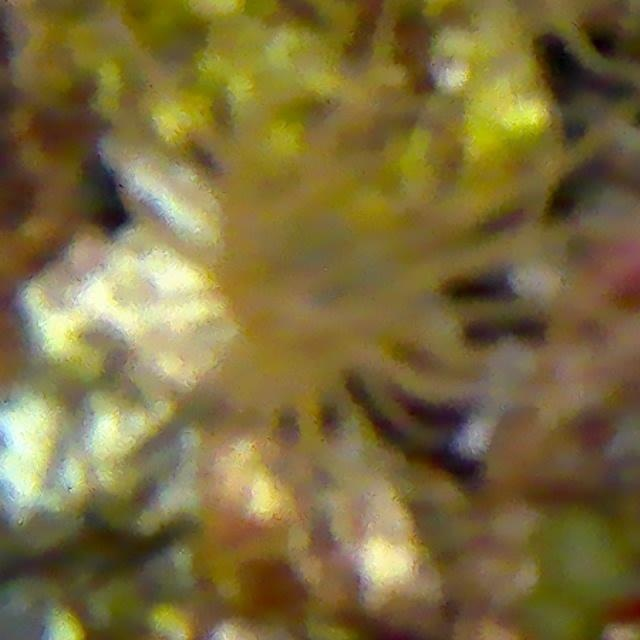SeaGrape: (544, 505, 640, 611), (524, 590, 594, 640)
